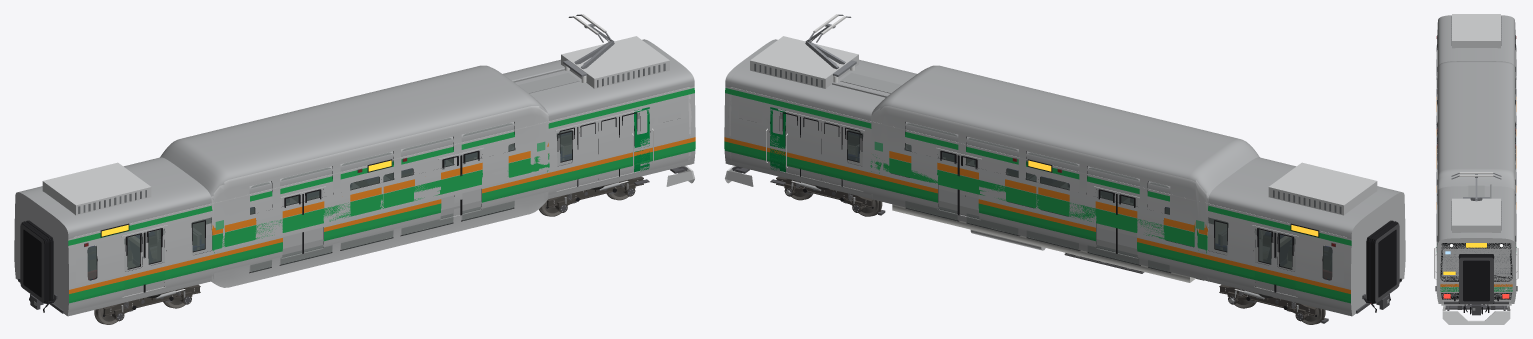
3 renders of one model, left to right at view 1: azimuth 30°, elevation 25°; view 2: azimuth 150°, elevation 25°; view 3: azimuth 270°, elevation 25°, orthographic. The views are drawn at different scales.
Visible parts, largest first — view 1: e231_green, e231_cab, e231_mid, e231_mid_panto, e231_cab_fine, e231_cab_door3_R_a, e231_cab_door2_R_b, e231_cab_door3_R_b, e231_cab_door2_R_a; view 2: e231_green, e231_cab, e231_mid, e231_mid_panto, e231_cab_fine, e231_cab_door2_L_b, e231_cab_door3_L_a, e231_cab_door2_L_a, e231_cab_door1_L_b, e231_cab_door3_L_b, e231_mid_door1_L_b; view 3: e231_green, e231_cab, e231_mid, e231_mid_fine, e231_mid_panto, e231_cab_fine.
Boxes of the visible parts, x1=… form: e231_green: x1=14, y1=36, x2=695, y2=316; e231_cab: x1=14, y1=60, x2=694, y2=321; e231_mid: x1=14, y1=39, x2=695, y2=315; e231_mid_panto: x1=88, y1=14, x2=615, y2=311; e231_cab_fine: x1=18, y1=128, x2=653, y2=319; e231_cab_door3_R_a: x1=124, y1=233, x2=145, y2=291; e231_cab_door2_R_b: x1=303, y1=188, x2=323, y2=253; e231_cab_door3_R_b: x1=145, y1=228, x2=164, y2=291; e231_cab_door2_R_a: x1=282, y1=193, x2=303, y2=257; e231_green: x1=724, y1=36, x2=1405, y2=316; e231_cab: x1=725, y1=60, x2=1405, y2=323; e231_mid: x1=724, y1=39, x2=1405, y2=315; e231_mid_panto: x1=804, y1=14, x2=1331, y2=311; e231_cab_fine: x1=766, y1=128, x2=1401, y2=319; e231_cab_door2_L_b: x1=1096, y1=188, x2=1116, y2=253; e231_cab_door3_L_a: x1=1274, y1=233, x2=1295, y2=291; e231_cab_door2_L_a: x1=1116, y1=193, x2=1137, y2=256; e231_cab_door1_L_b: x1=938, y1=150, x2=958, y2=214; e231_cab_door3_L_b: x1=1255, y1=228, x2=1274, y2=291; e231_mid_door1_L_b: x1=1096, y1=189, x2=1117, y2=253; e231_green: x1=1436, y1=14, x2=1516, y2=303; e231_cab: x1=1436, y1=15, x2=1516, y2=324; e231_mid: x1=1436, y1=15, x2=1516, y2=305; e231_mid_fine: x1=1454, y1=254, x2=1498, y2=312; e231_mid_panto: x1=1451, y1=172, x2=1501, y2=201; e231_cab_fine: x1=1434, y1=247, x2=1518, y2=291.
Size of the model in its own units: 20.08 by 5.17 by 3.1.
Materials: 75 (1 with a texture image).
